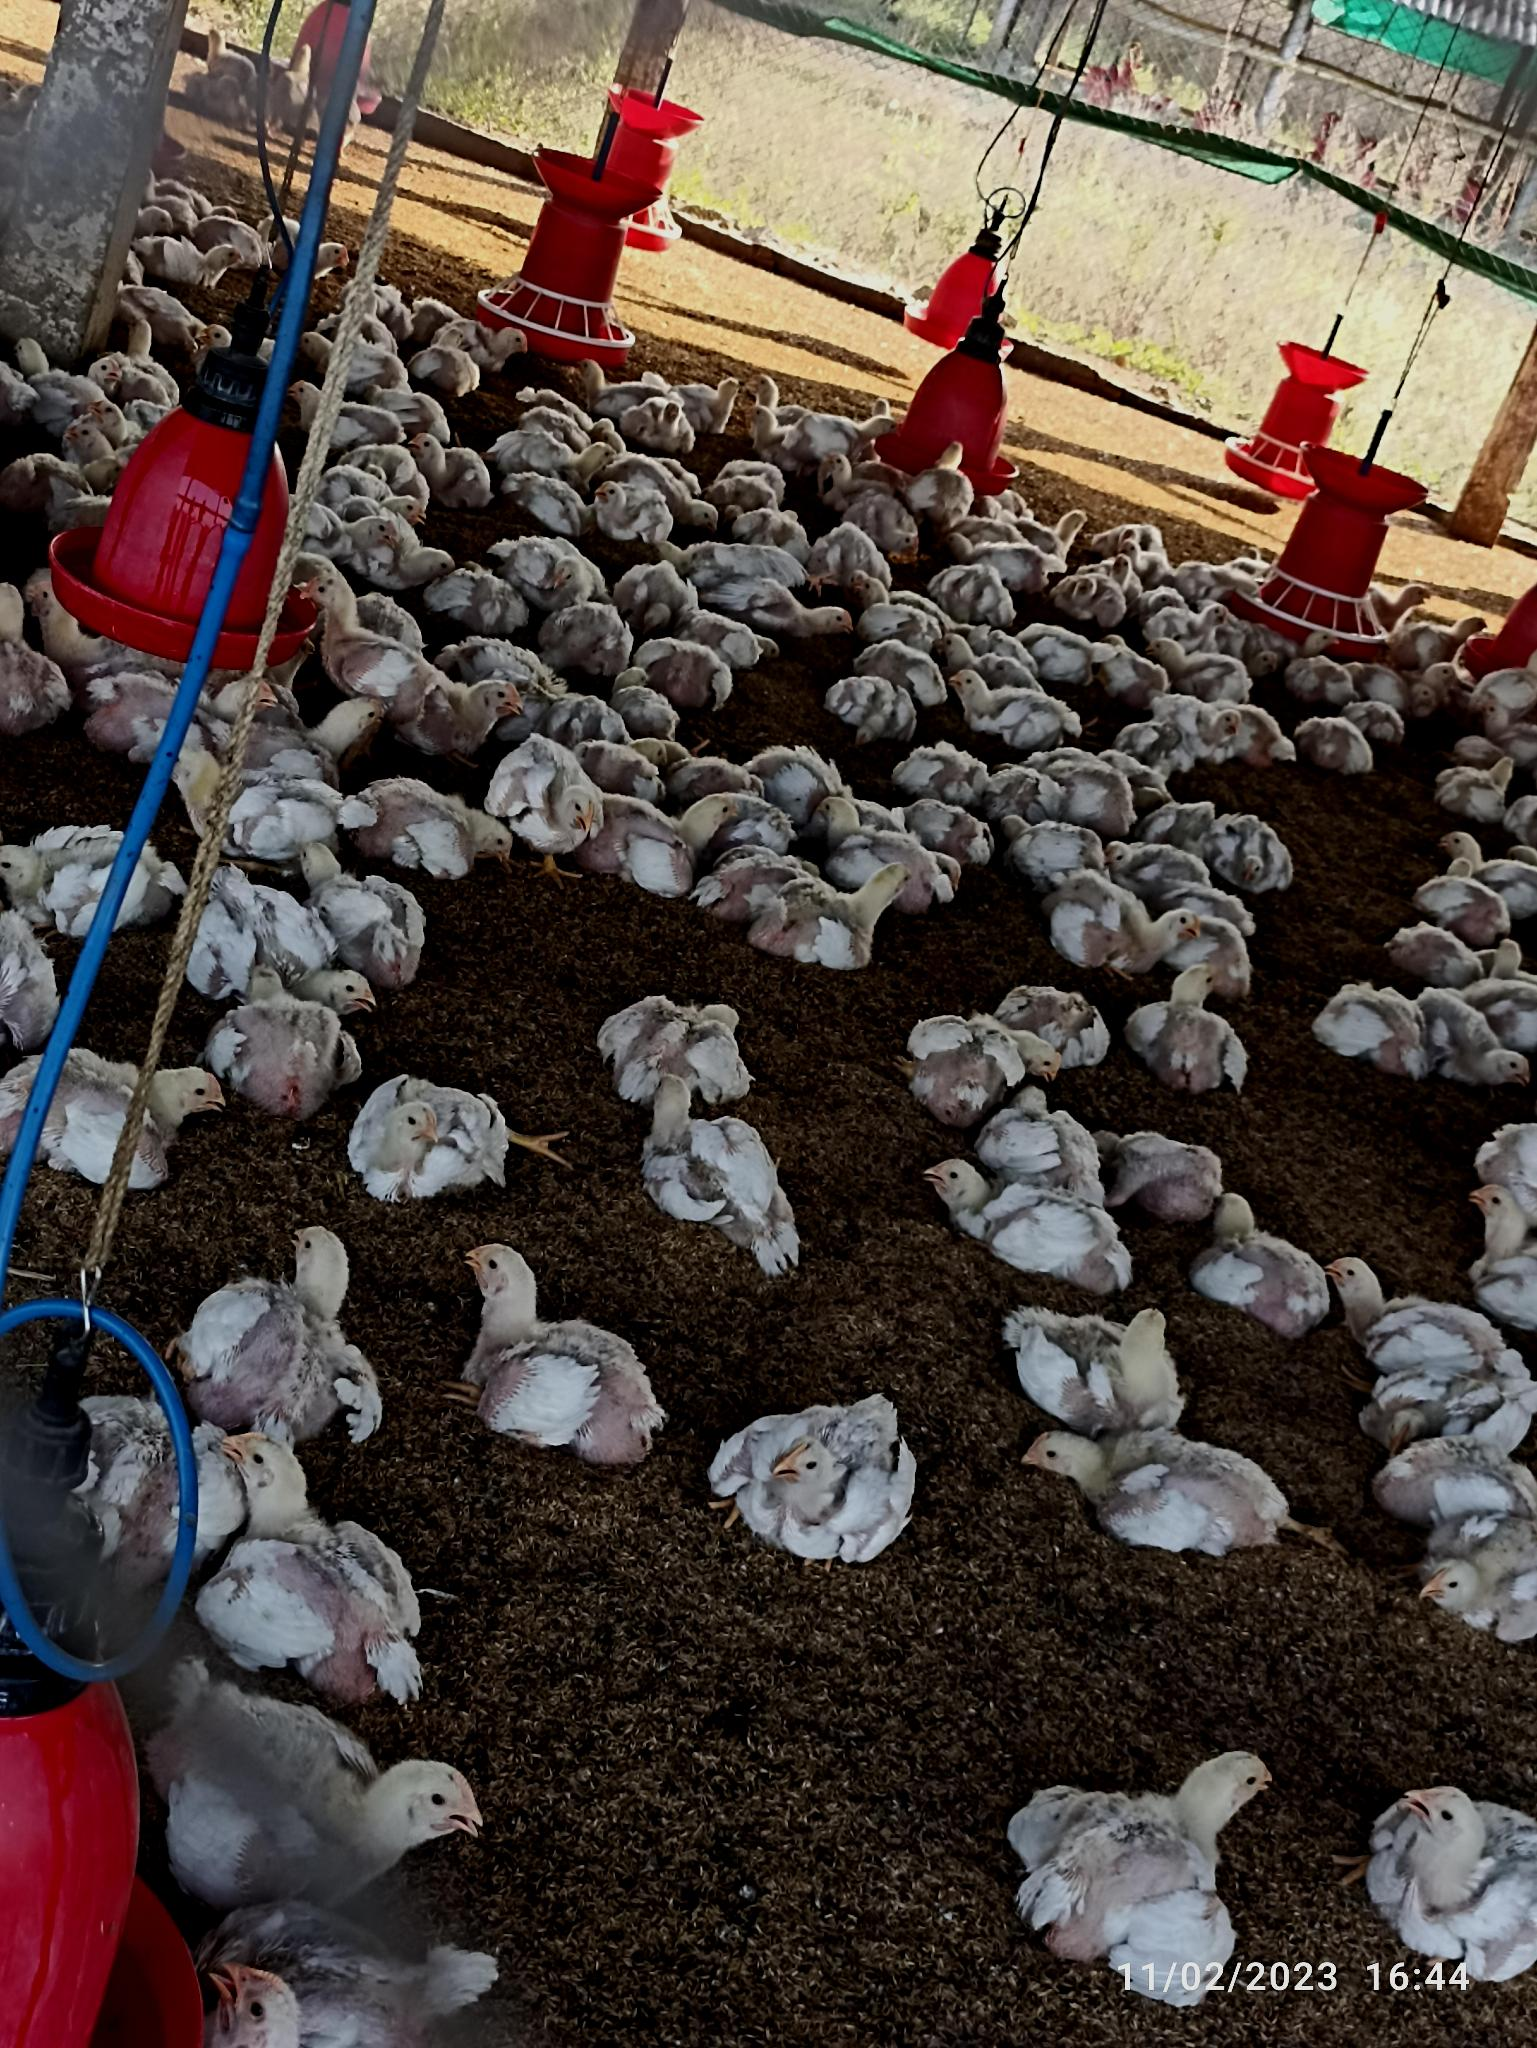Pollos: (207, 1427, 434, 1711), (163, 1719, 488, 1908), (1016, 1758, 1290, 1948), (459, 1239, 665, 1464), (173, 1227, 392, 1414), (1017, 1427, 1305, 1554), (1361, 1778, 1537, 1979), (631, 1075, 819, 1259), (1317, 1246, 1527, 1402), (723, 1398, 915, 1561), (922, 1156, 1146, 1294), (1003, 1302, 1193, 1436), (16, 1065, 226, 1181), (341, 1075, 510, 1194), (1217, 1172, 1327, 1340), (1120, 960, 1259, 1091), (581, 996, 760, 1091), (749, 862, 896, 976), (1046, 868, 1221, 963), (500, 738, 601, 876)
